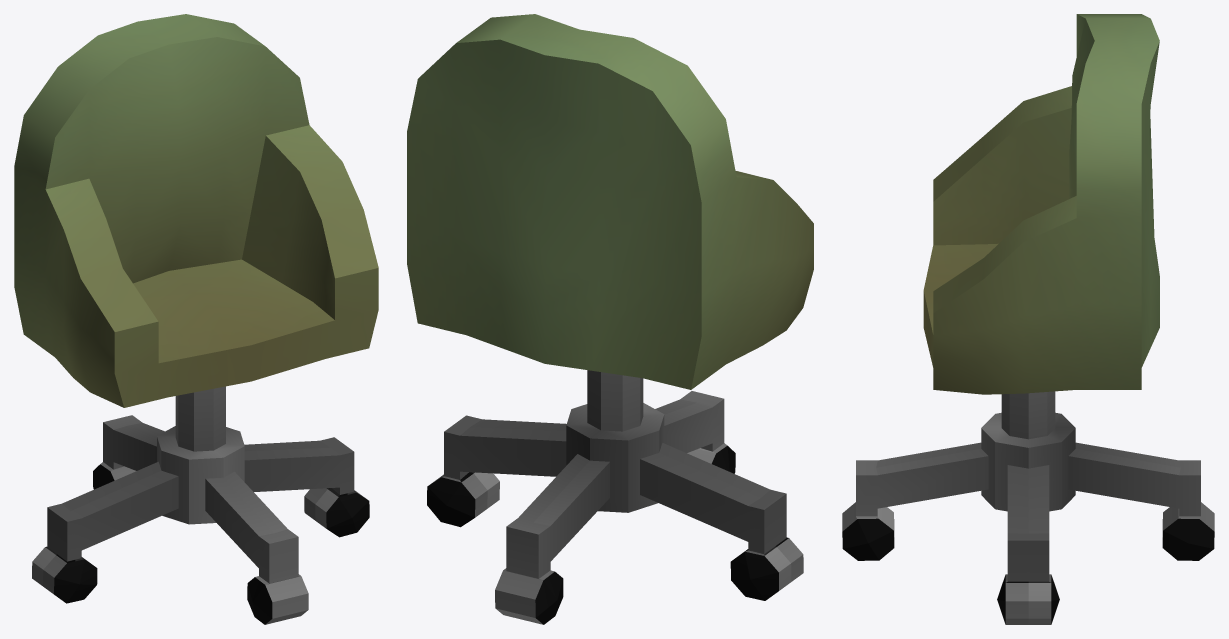
File: sp_chair_office_a.fbx
The picture shows the model from 3 angles, left to right: view 1: azimuth 30°, elevation 25°; view 2: azimuth 150°, elevation 25°; view 3: azimuth 270°, elevation 25°; orthographic projection. The views are drawn at different scales.
Parts seen in each view (by area): view 1: sp_chair_office_a; view 2: sp_chair_office_a; view 3: sp_chair_office_a.
Part boxes in pixels (x1=…): sp_chair_office_a: x1=14, y1=14, x2=378, y2=624; sp_chair_office_a: x1=407, y1=14, x2=813, y2=624; sp_chair_office_a: x1=842, y1=14, x2=1214, y2=624.
Size of the model in its own units: 118 by 176 by 116.
